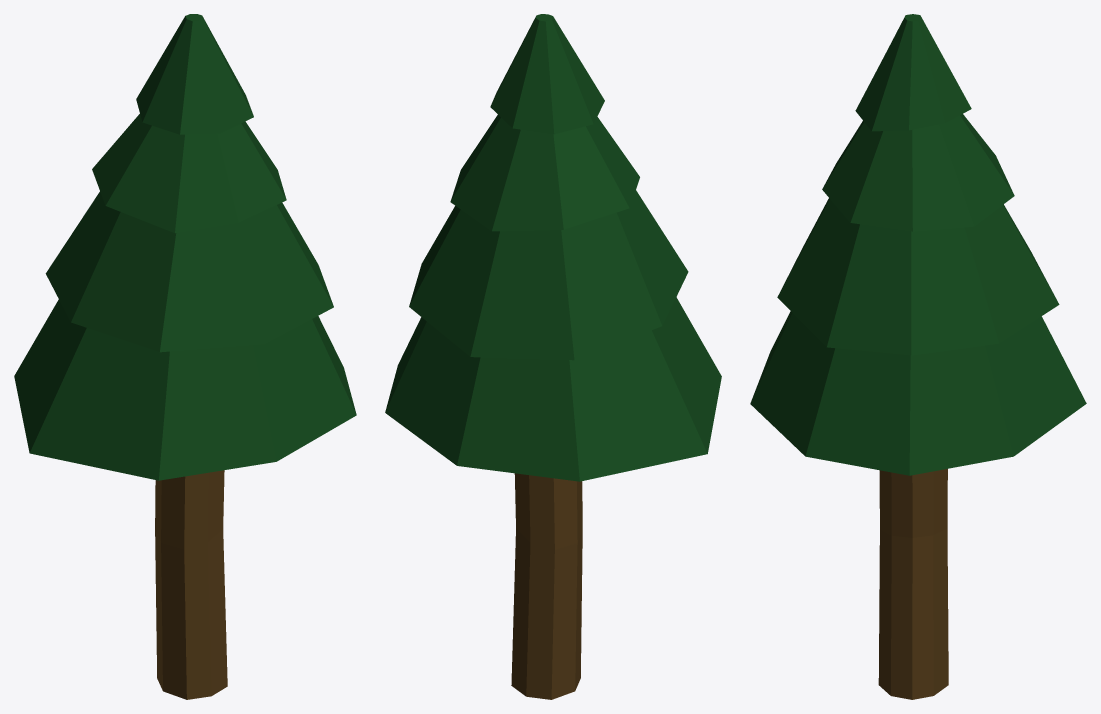
Rendered from Pine Tree 3.fbx.
The picture shows the model from 3 angles, left to right: view 1: azimuth 30°, elevation 25°; view 2: azimuth 150°, elevation 25°; view 3: azimuth 270°, elevation 25°; orthographic projection.
Visible parts, largest first — view 1: Pine Tree 3; view 2: Pine Tree 3; view 3: Pine Tree 3.
Boxes of the visible parts, box(x1,y1,x2,y2) form: Pine Tree 3: box(14, 14, 356, 699); Pine Tree 3: box(385, 14, 721, 699); Pine Tree 3: box(750, 14, 1086, 699).
Size of the model in its own units: 2.95 by 6.03 by 2.75.
